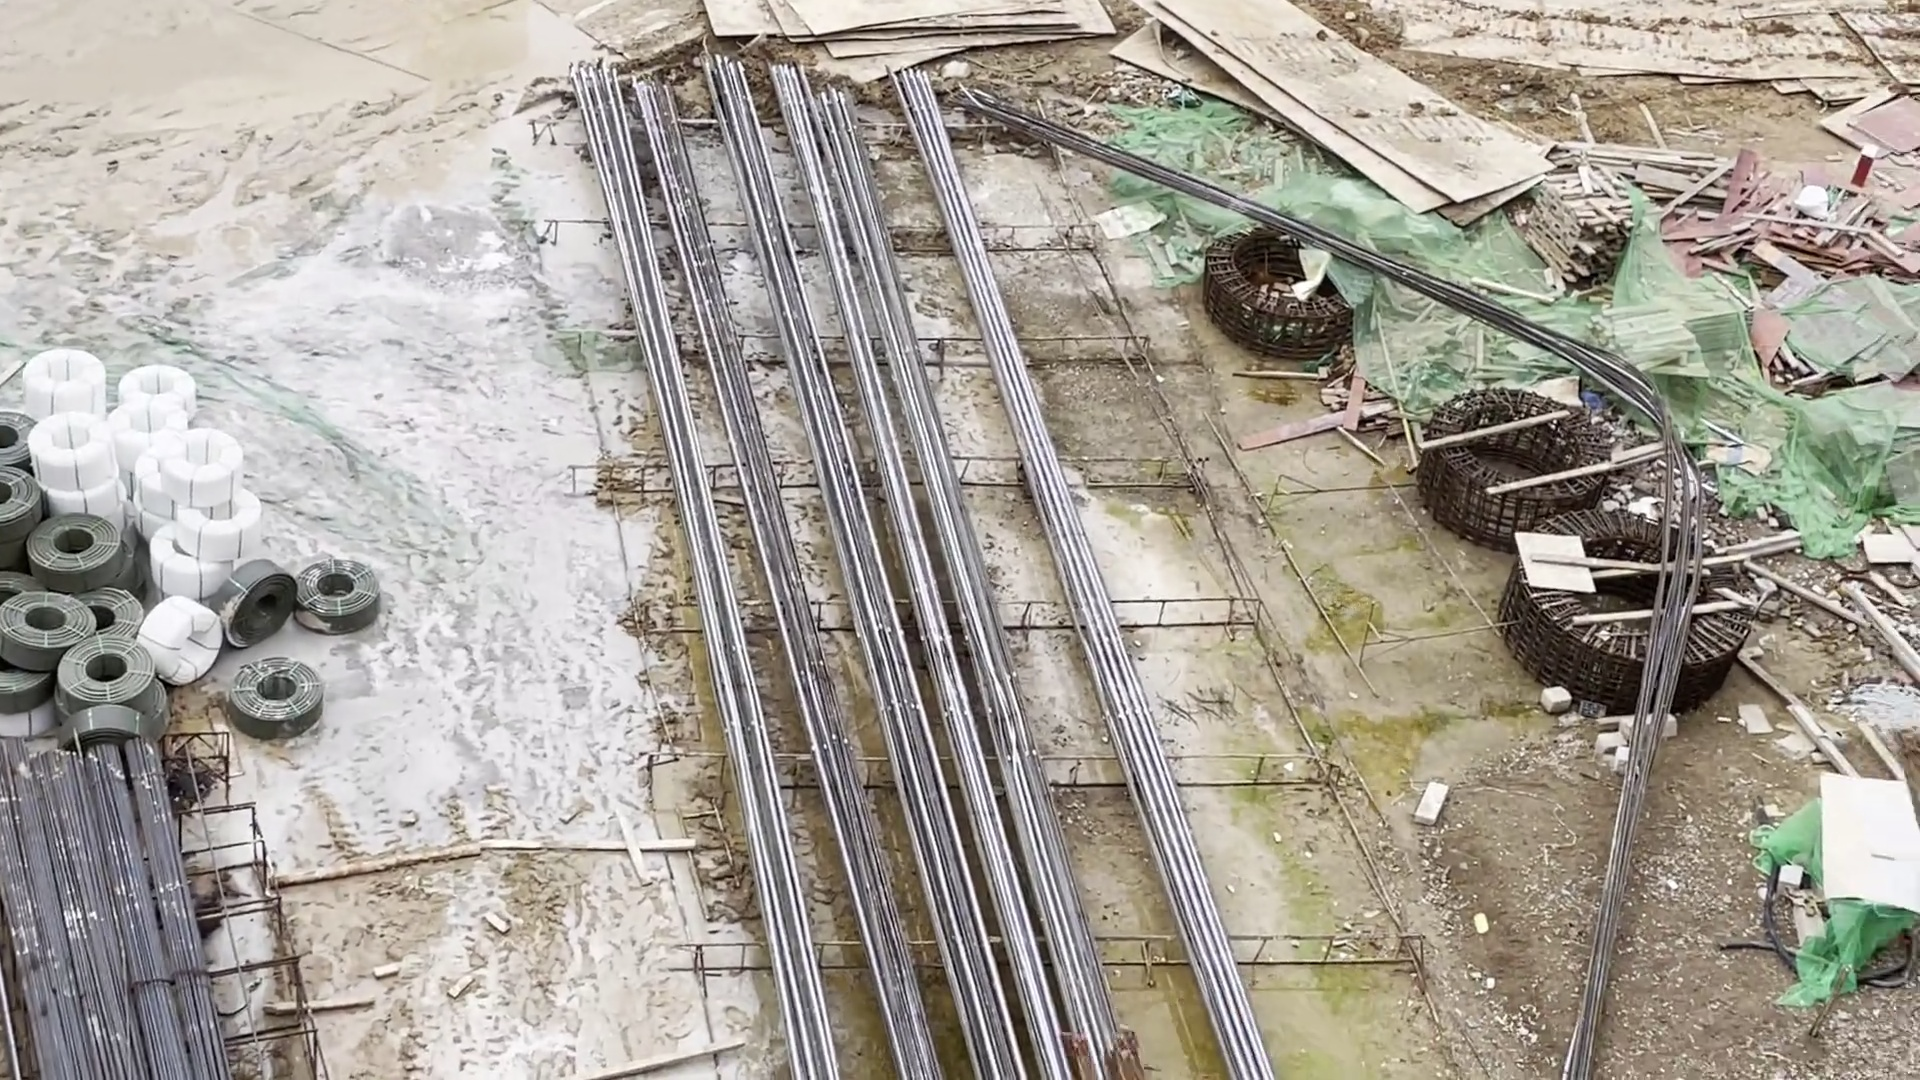board: (1679, 165, 1911, 287)
rebar: (559, 49, 1134, 1080), (11, 728, 191, 1069)
